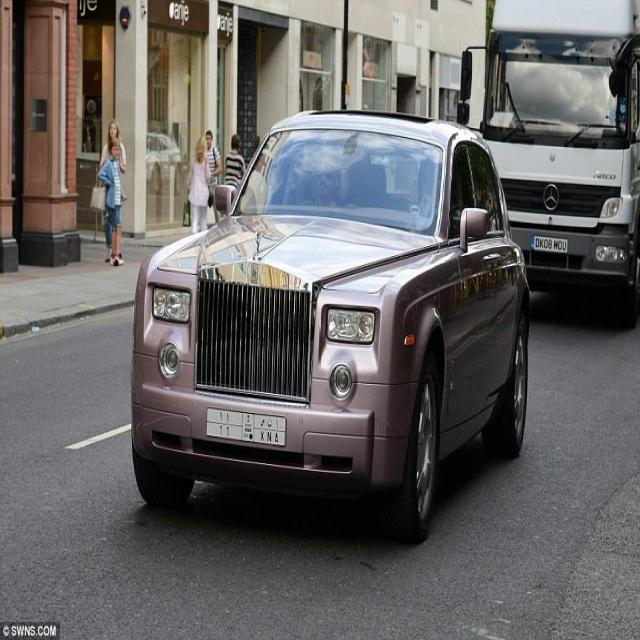license_plate: (200, 402, 288, 451), (526, 225, 572, 256)
